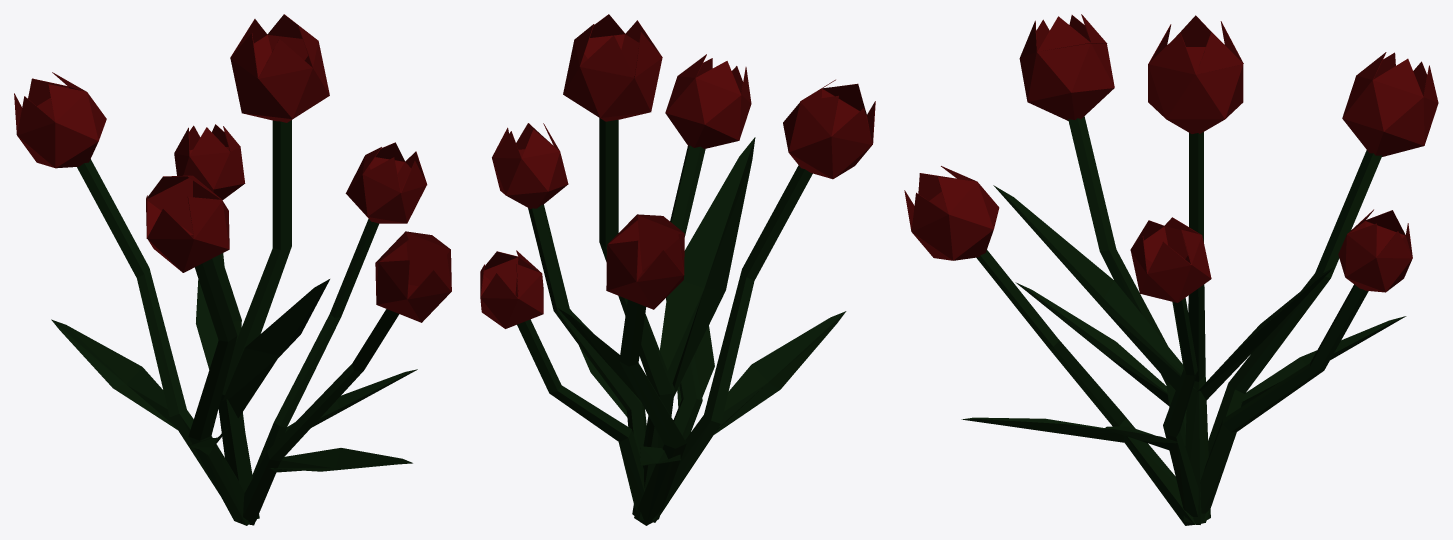
File: Rose.glb
3 renders of one model, left to right at view 1: azimuth 30°, elevation 25°; view 2: azimuth 150°, elevation 25°; view 3: azimuth 270°, elevation 25°, orthographic. The views are drawn at different scales.
Parts seen in each view (by area): view 1: Asset3DLoader.sceneRoot; view 2: Asset3DLoader.sceneRoot; view 3: Asset3DLoader.sceneRoot.
Boxes of the visible parts, <box> form: Asset3DLoader.sceneRoot: <box>14,14,451,525</box>; Asset3DLoader.sceneRoot: <box>480,14,875,525</box>; Asset3DLoader.sceneRoot: <box>904,14,1438,525</box>.
Size of the model in its own units: 0.8184 by 1.2 by 1.12.
